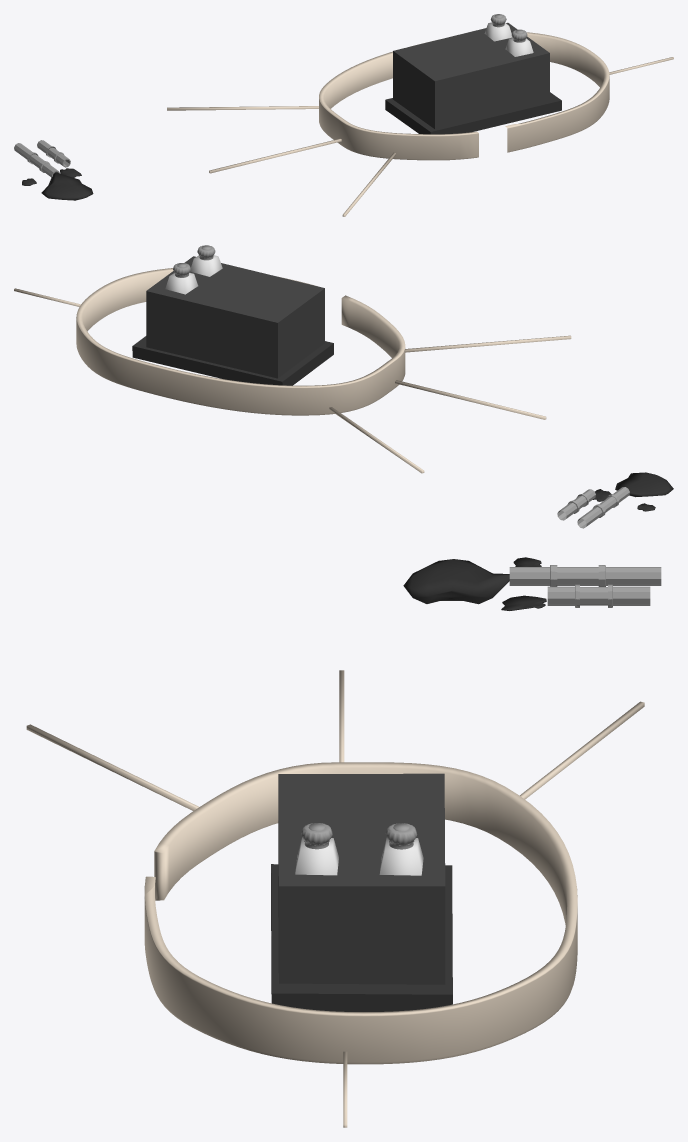
The model's file is Industrial1 and 2 .fbx.
The picture shows the model from 3 angles, top to bottom: view 1: azimuth 30°, elevation 25°; view 2: azimuth 150°, elevation 25°; view 3: azimuth 270°, elevation 25°; orthographic projection. The views are drawn at different scales.
Visible parts, largest first — view 1: generator 2, generator wall, liquid, Circle.001, pipes; view 2: generator 2, generator wall, Circle.001, liquid, pipes; view 3: generator wall, generator 2, pipes, liquid, Circle.001.
Boxes of the visible parts, box(x1,y1,x2,y2) form: generator 2: box(385, 22, 561, 134); generator wall: box(167, 32, 673, 216); liquid: box(22, 168, 93, 200); Circle.001: box(484, 14, 533, 56); pipes: box(14, 140, 70, 177); generator 2: box(132, 256, 333, 385); generator wall: box(14, 268, 571, 473); Circle.001: box(165, 245, 222, 294); liquid: box(593, 472, 673, 511); pipes: box(557, 487, 629, 528); generator wall: box(26, 670, 644, 1127); generator 2: box(271, 773, 452, 1011); pipes: box(509, 565, 661, 607); liquid: box(403, 557, 546, 610); Circle.001: box(295, 823, 423, 875).
Bounding box in the file's own units: 252 × 34.09 × 114.
